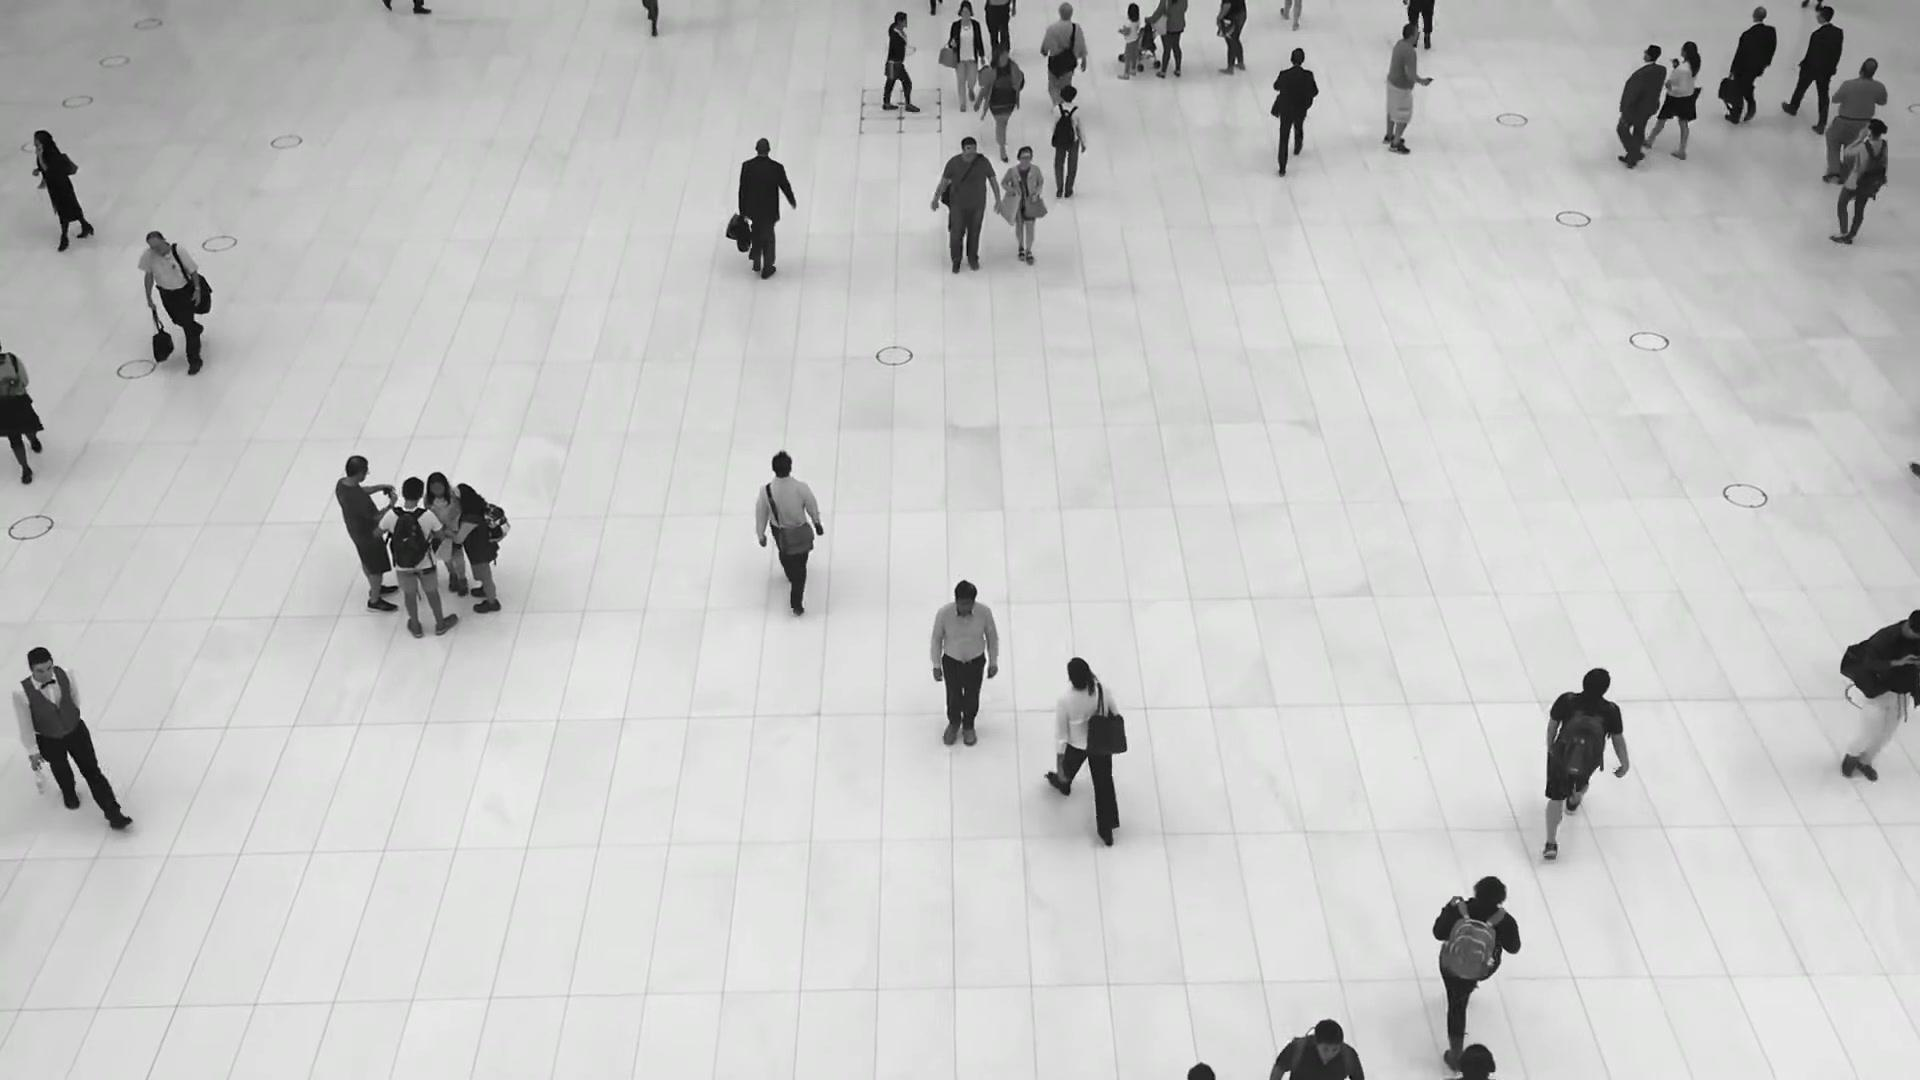person: (11, 644, 134, 829), (1432, 874, 1522, 1070), (1542, 666, 1628, 859), (1043, 655, 1119, 843), (1842, 607, 1920, 787), (379, 477, 460, 635), (929, 579, 1000, 755), (754, 449, 824, 612), (136, 228, 211, 373), (928, 136, 1001, 278), (333, 455, 399, 608), (1831, 120, 1900, 254), (1819, 57, 1888, 181), (737, 137, 794, 283), (31, 128, 94, 252), (1784, 5, 1844, 133), (1716, 6, 1777, 125), (449, 481, 502, 613), (1613, 44, 1667, 169), (1646, 41, 1701, 162), (1380, 23, 1430, 155), (1271, 47, 1319, 179), (0, 340, 44, 484), (1268, 1017, 1365, 1080), (423, 469, 469, 592), (1000, 146, 1044, 270), (975, 45, 1022, 160), (1039, 1, 1089, 108), (878, 11, 924, 112), (1049, 84, 1088, 201), (947, 0, 985, 112), (1115, 2, 1139, 79)
